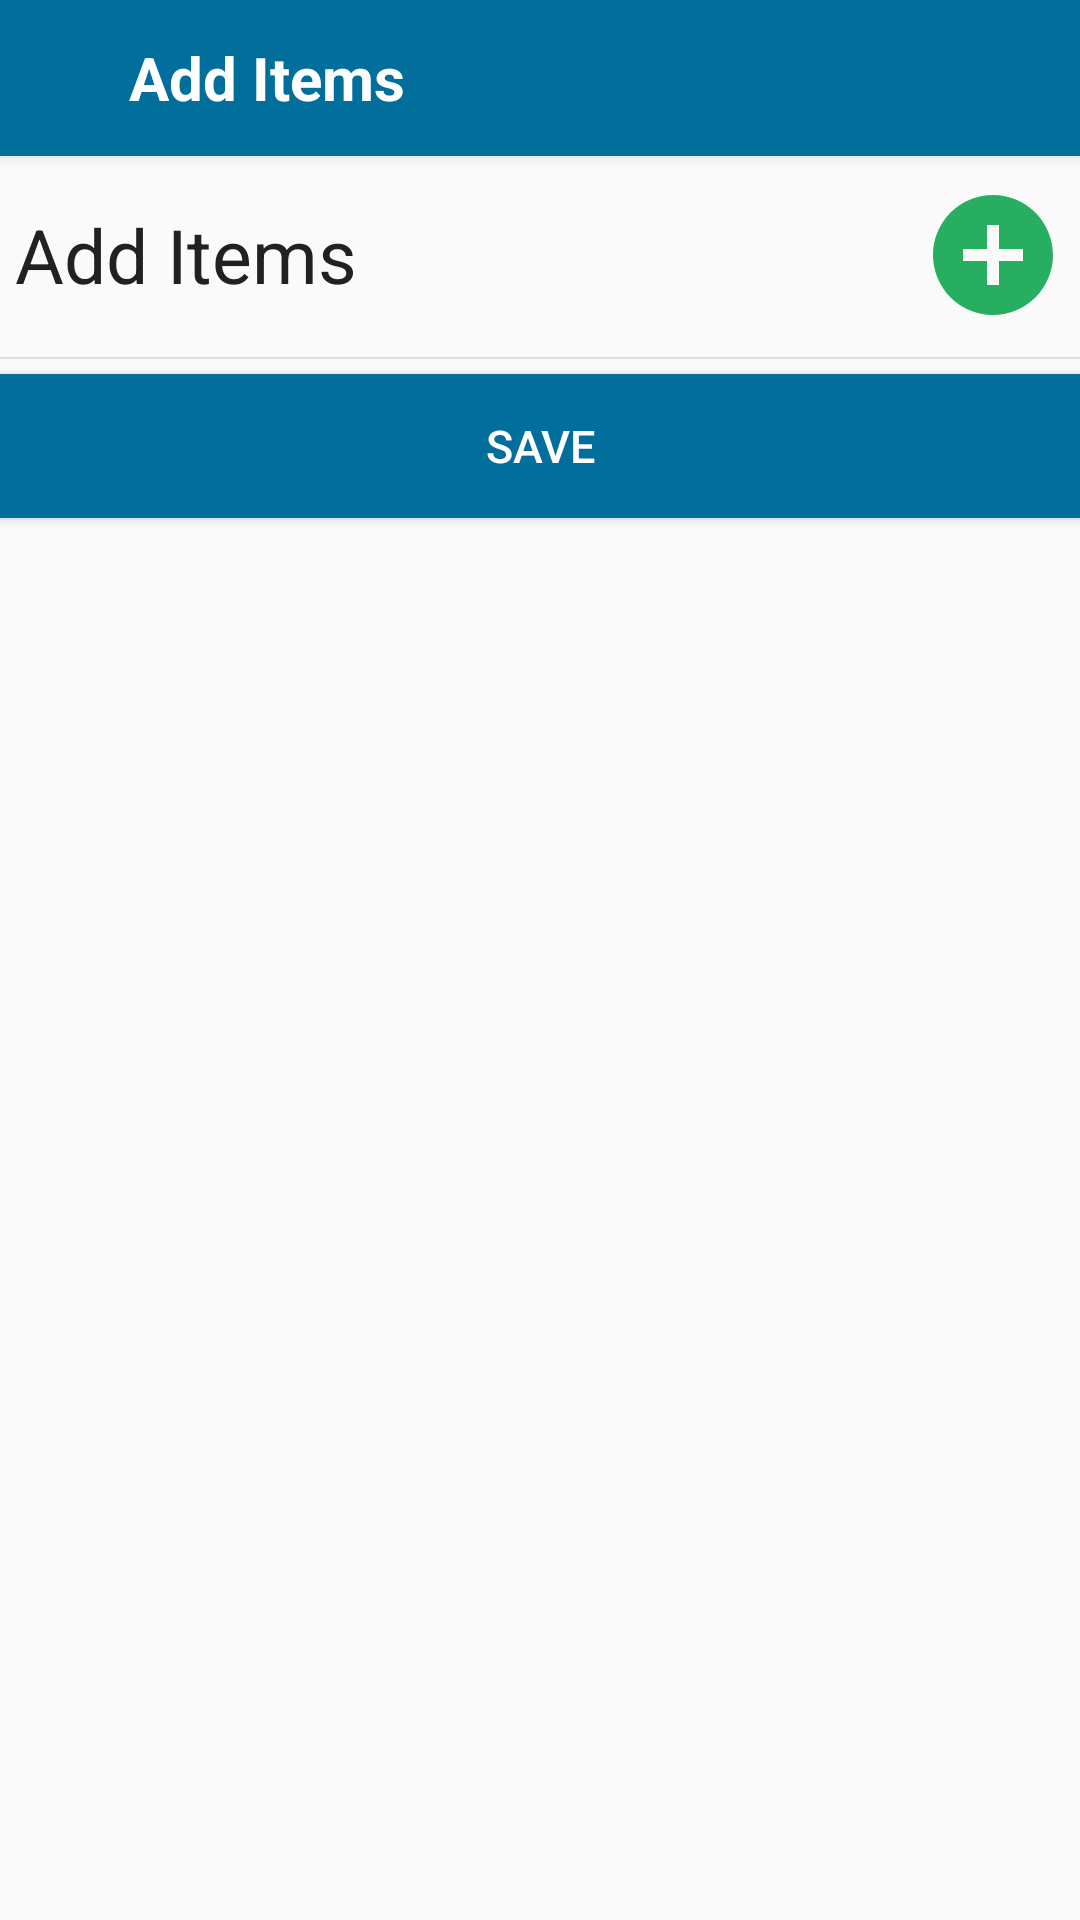

Icon click points for this 1080 × 1920 phone screenshot, format (x,y):
add circle: (993,255)
